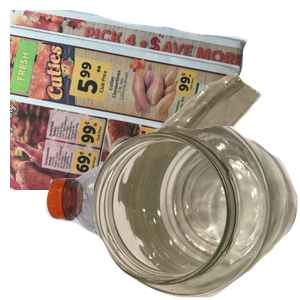glass: (94, 126, 300, 300)
paper: (10, 10, 250, 190)
plastic: (43, 152, 283, 300)
trash: (158, 71, 300, 227)
